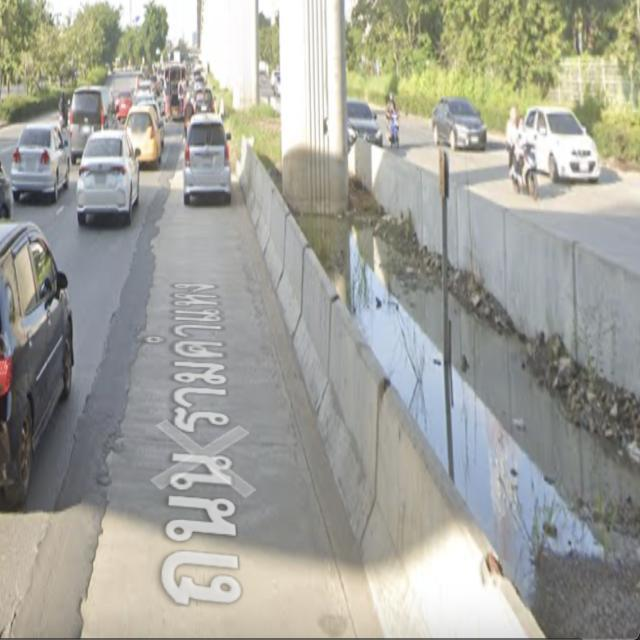fallen_object: (327, 117, 640, 405), (351, 384, 557, 640), (317, 289, 400, 549), (262, 197, 346, 416), (232, 127, 276, 275)
